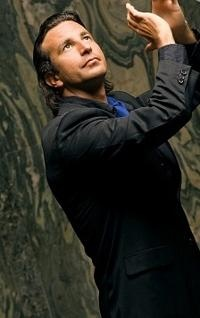person without safety: (29, 1, 200, 262)
